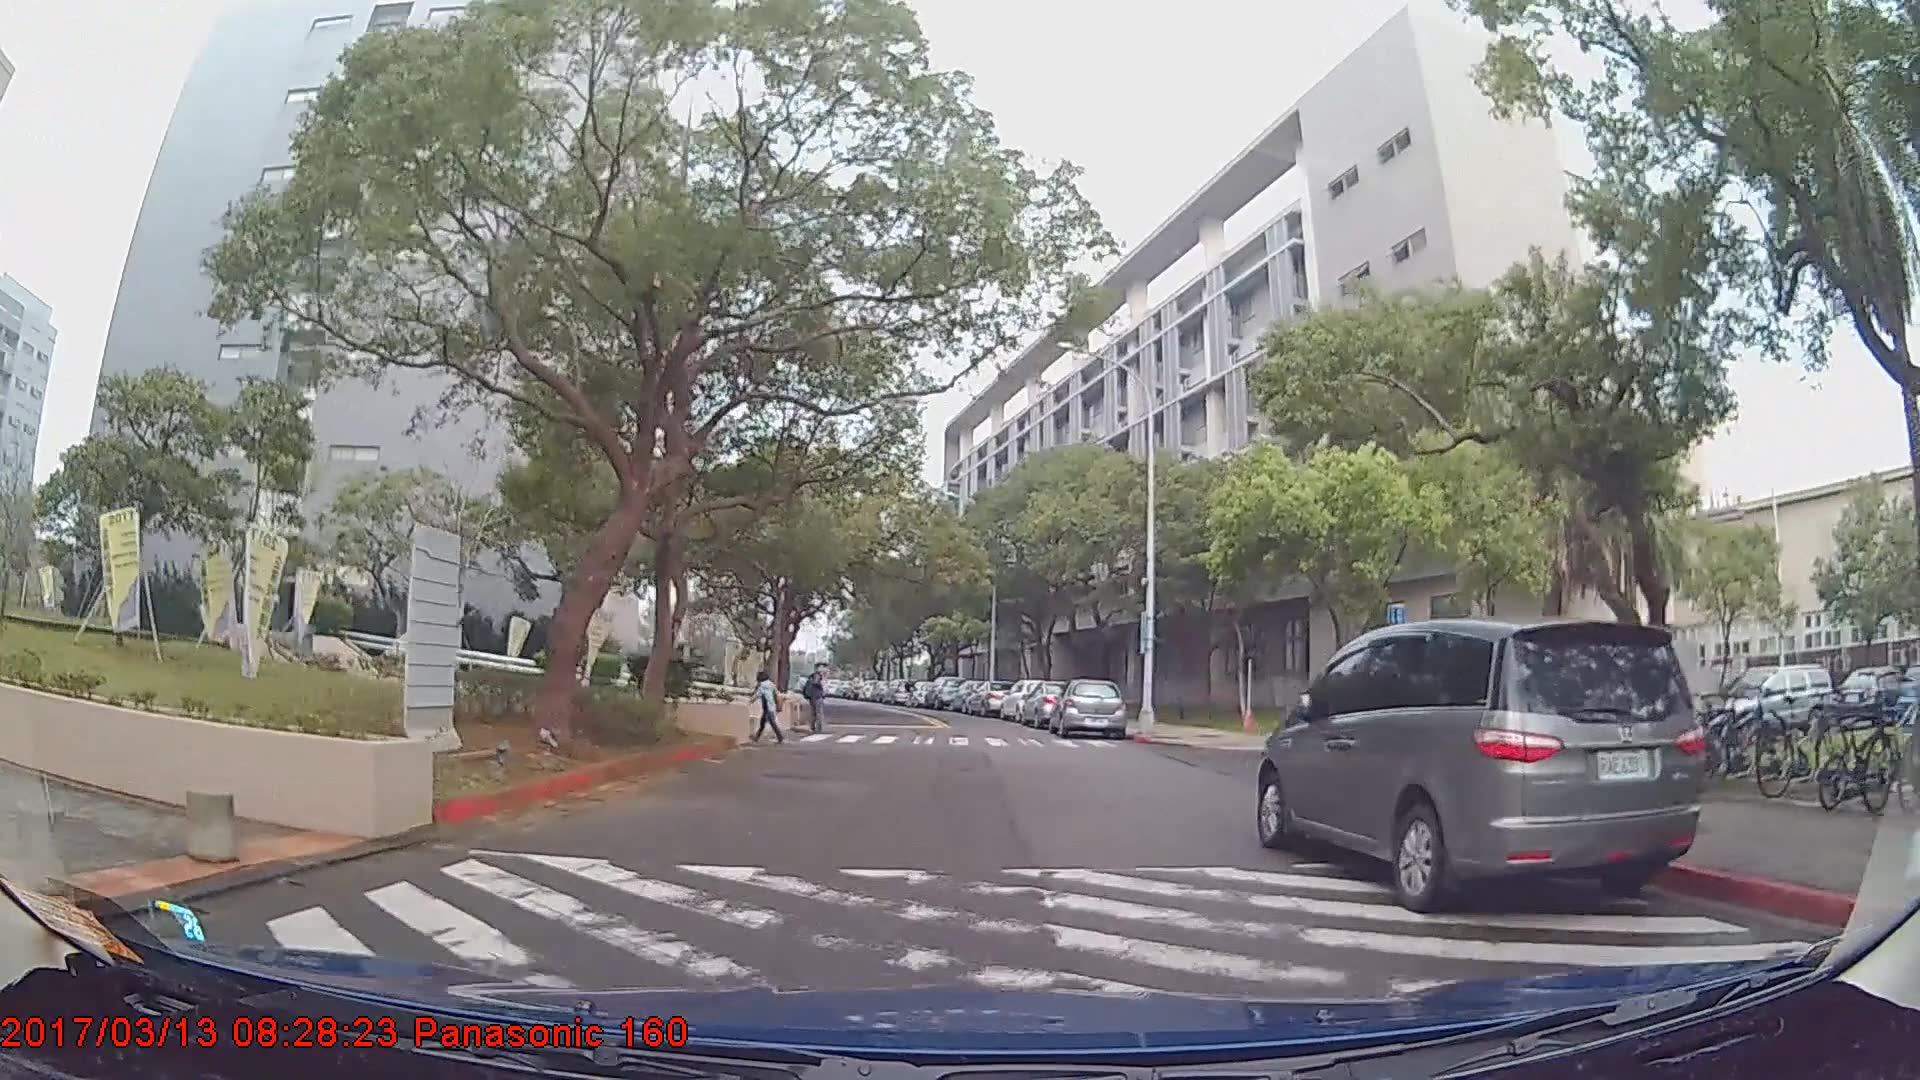pedestrian: (753, 673, 783, 747), (802, 661, 829, 738)
vehicle: (1254, 615, 1706, 914), (1698, 662, 1834, 744), (1831, 663, 1914, 726), (1053, 677, 1127, 739), (1017, 677, 1083, 727), (966, 682, 1010, 717), (921, 674, 963, 709)
